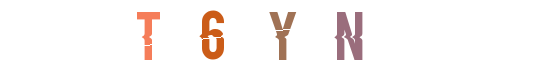6: (172, 0, 252, 80)
N: (285, 0, 365, 80)
T: (123, 0, 203, 80)
Y: (230, 0, 310, 80)
